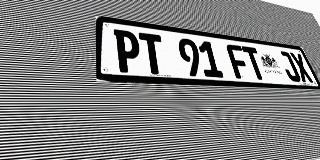1: (196, 40, 224, 78)
9: (177, 37, 205, 77)
F: (225, 44, 252, 79)
J: (277, 51, 302, 82)
P: (114, 29, 142, 73)
T: (138, 32, 167, 75), (241, 46, 268, 80)
X: (289, 52, 314, 83)
